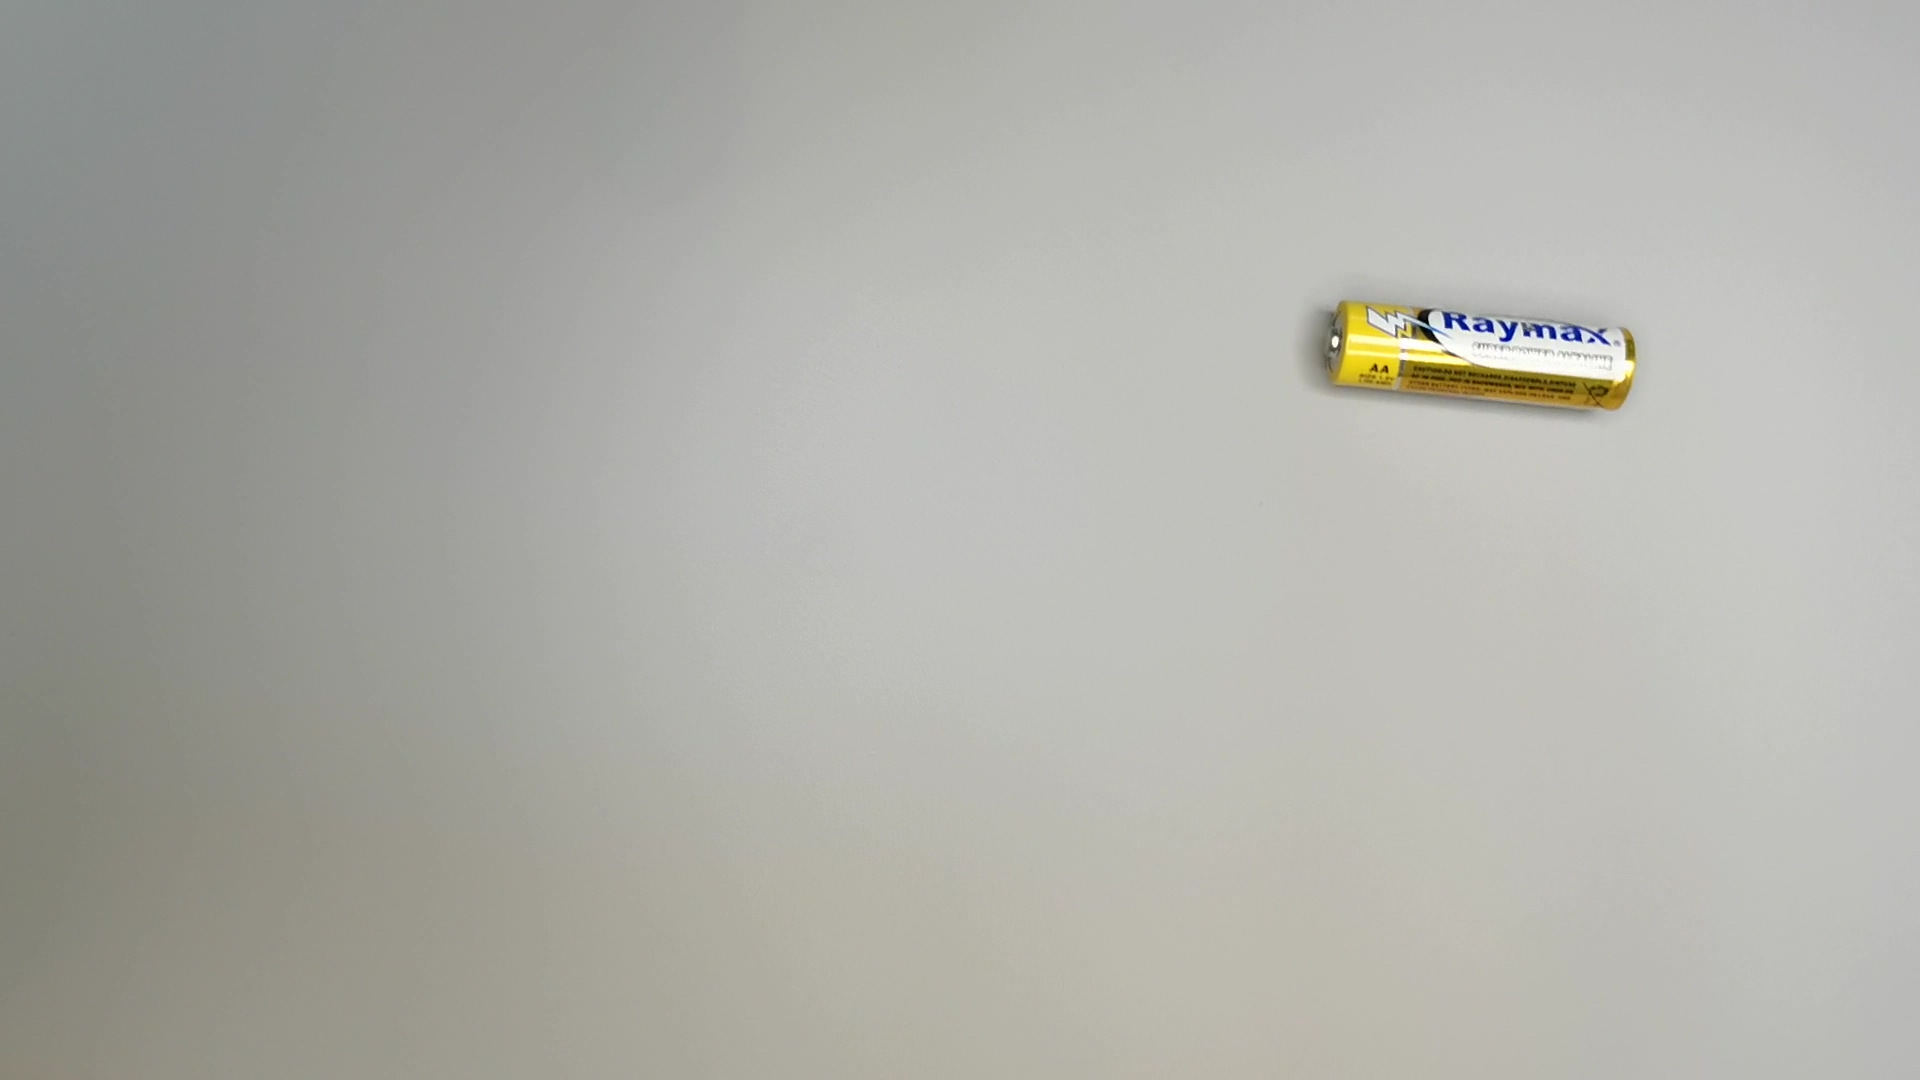battery: (1312, 294, 1648, 425)
